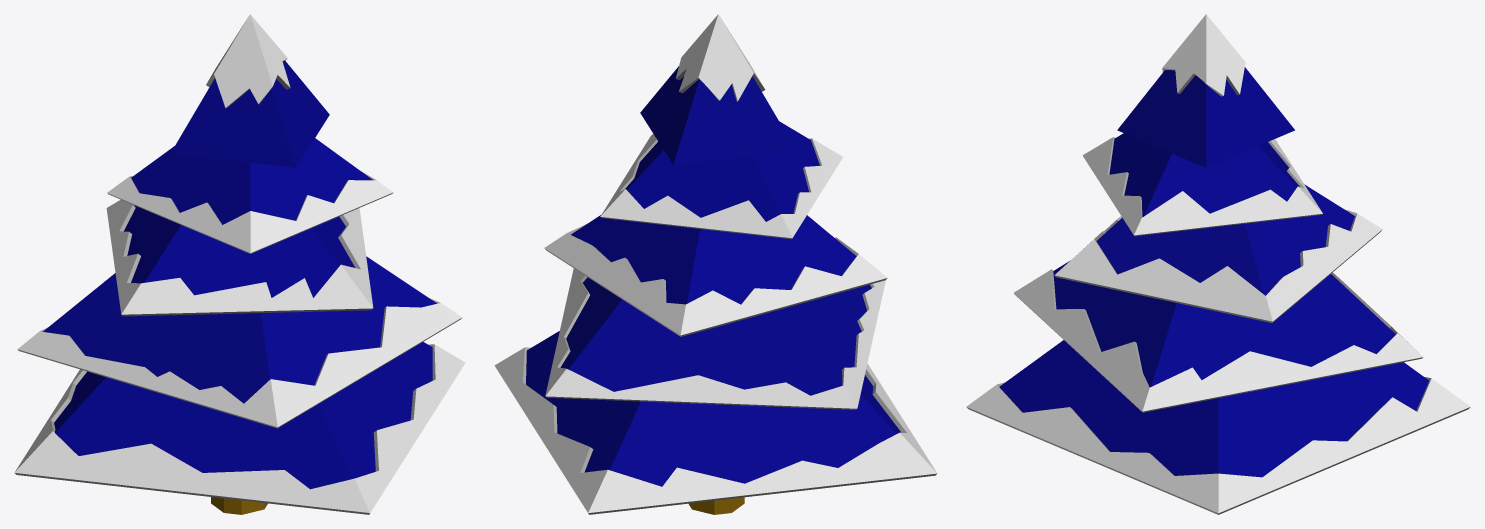
Rendered from snow treee.fbx.
3 views of the same model, side by side, from view 1: azimuth 30°, elevation 25°; view 2: azimuth 150°, elevation 25°; view 3: azimuth 270°, elevation 25° (orthographic). The views are drawn at different scales.
Parts seen in each view (by area): view 1: christmas_tree_pPyramid1, christmas_tree_pPyramid2, christmas_tree_pPyramid3, christmas_tree_pPyramid4, christmas_tree_pPyramid5, christmas_tree_pCube1; view 2: christmas_tree_pPyramid1, christmas_tree_pPyramid2, christmas_tree_pPyramid3, christmas_tree_pPyramid4, christmas_tree_pPyramid5, christmas_tree_pCube1; view 3: christmas_tree_pPyramid1, christmas_tree_pPyramid2, christmas_tree_pPyramid3, christmas_tree_pPyramid4, christmas_tree_pPyramid5.
Part boxes in pixels (x1,y1,x2,y2): christmas_tree_pPyramid1: (14,342,465,514); christmas_tree_pPyramid2: (17,256,462,428); christmas_tree_pPyramid3: (106,199,373,316); christmas_tree_pPyramid4: (107,138,393,253); christmas_tree_pPyramid5: (170,14,329,167); christmas_tree_pCube1: (211,497,267,514); christmas_tree_pPyramid1: (494,331,937,514); christmas_tree_pPyramid2: (545,268,885,409); christmas_tree_pPyramid3: (544,215,887,336); christmas_tree_pPyramid4: (600,121,842,239); christmas_tree_pPyramid5: (640,14,796,164); christmas_tree_pCube1: (688,497,744,514); christmas_tree_pPyramid1: (966,340,1470,514); christmas_tree_pPyramid2: (1014,260,1423,412); christmas_tree_pPyramid3: (1054,184,1382,322); christmas_tree_pPyramid4: (1082,133,1322,236); christmas_tree_pPyramid5: (1117,14,1294,167).
Size of the model in its own units: 1.43 by 1.49 by 1.43.
